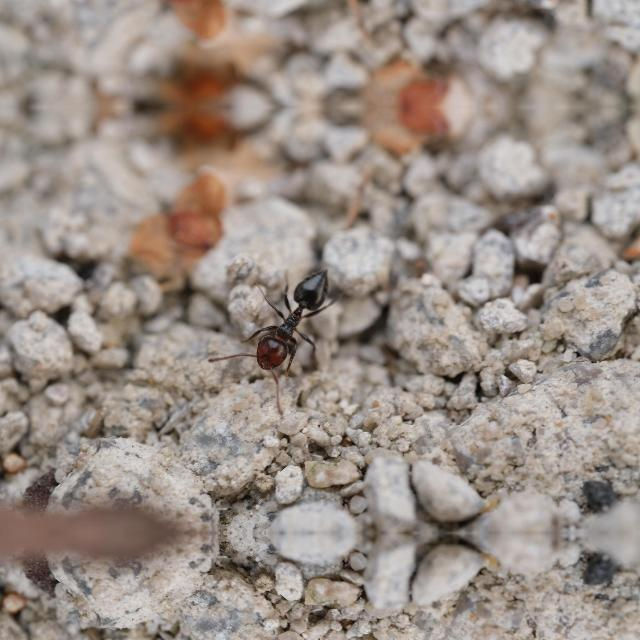Crematogaster: (240, 266, 330, 382)
